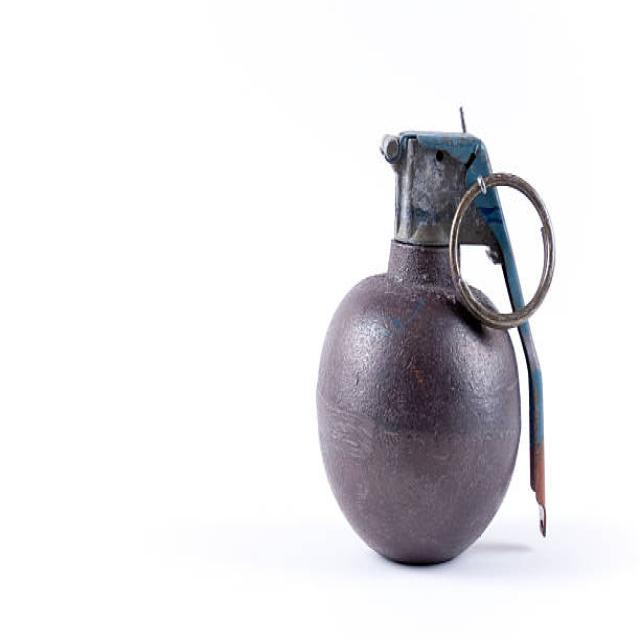grenade: (314, 96, 560, 578)
